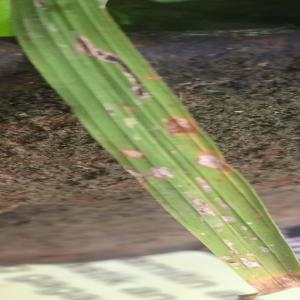Rice_Blast: (72, 28, 153, 97), (191, 144, 234, 176), (136, 158, 179, 187), (166, 108, 200, 141), (123, 137, 152, 168)
